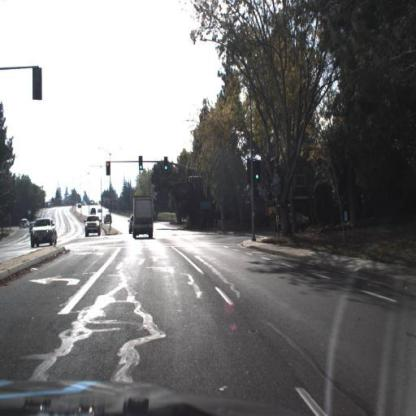car: (275, 210, 311, 236), (31, 218, 58, 248), (277, 212, 313, 233), (85, 217, 101, 238), (128, 212, 136, 236), (129, 215, 135, 237), (104, 214, 112, 225), (21, 220, 29, 230), (91, 208, 98, 218), (30, 222, 35, 235)
trafficLight: (105, 160, 112, 178)
trafficLight-Green: (254, 158, 262, 183), (139, 157, 144, 174), (165, 157, 170, 173)
trafficLight-RedLeft: (106, 161, 112, 177)
truck: (132, 196, 154, 240)
